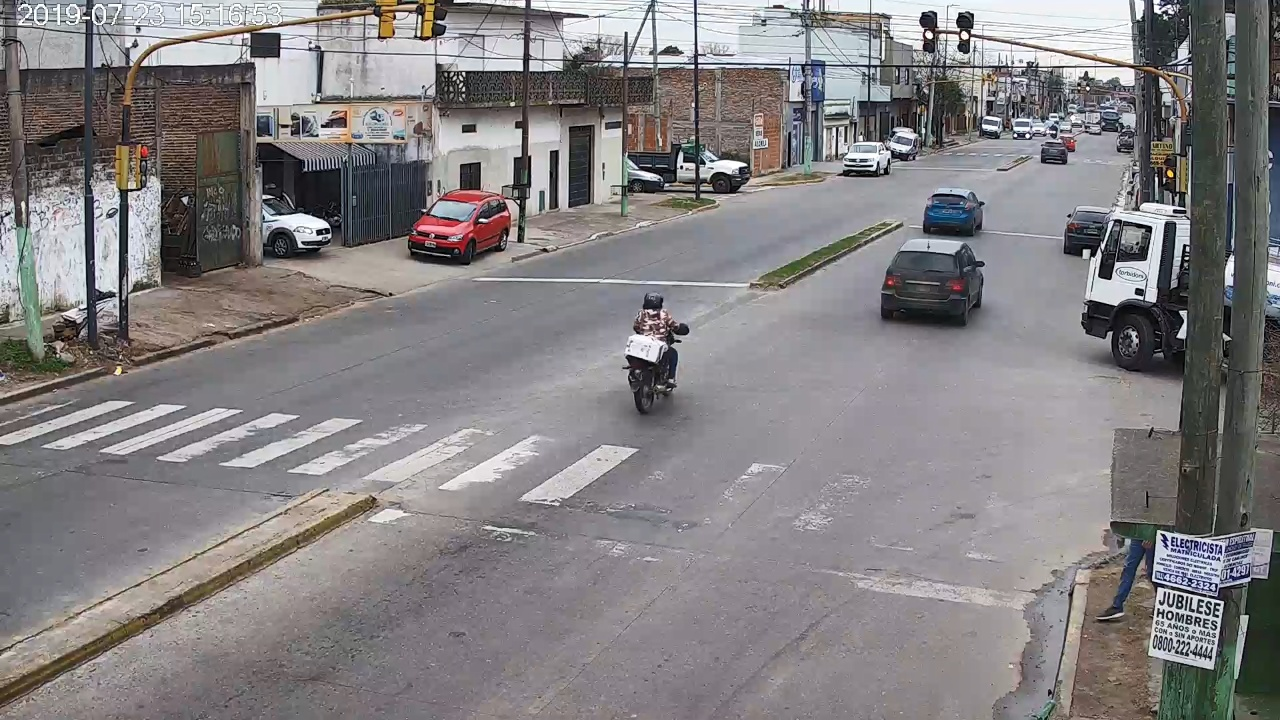car: (881, 238, 985, 325), (923, 187, 985, 236)
front car: (408, 190, 511, 265)
motorcycle: (622, 310, 689, 414)
traffic light: (921, 9, 938, 52), (958, 11, 972, 52), (1165, 156, 1175, 194)
